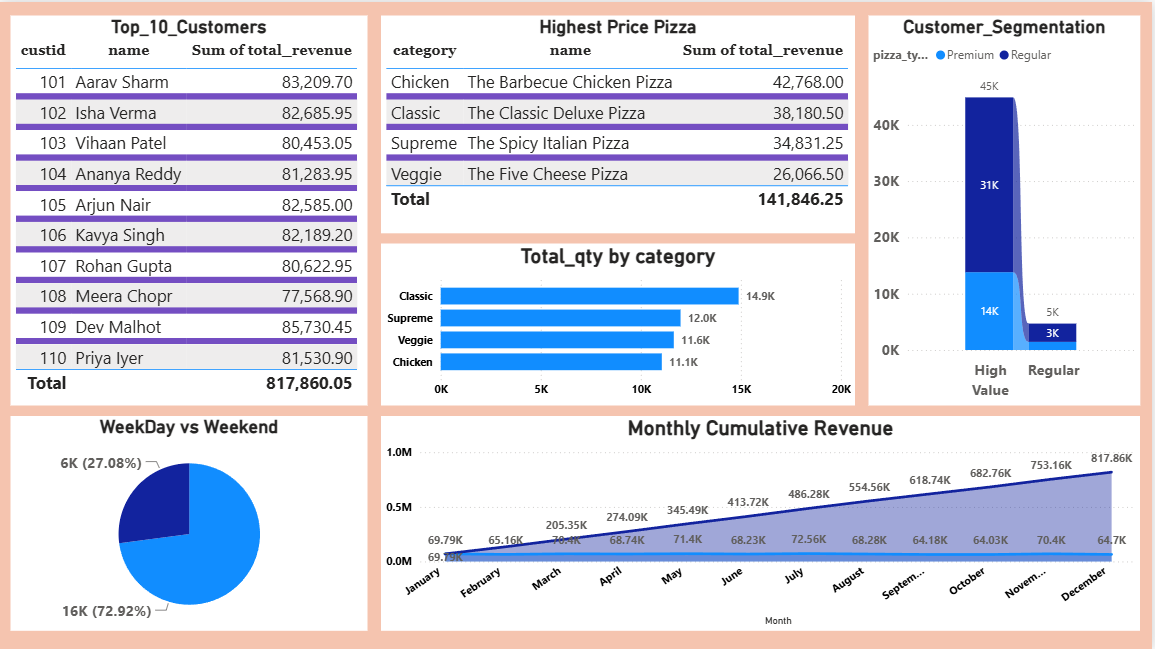

Layout of this report page (visuals, bound fields, positions):
{"tool":"powerbi","page":{"name":"Page 1","canvas":[1280,720],"ordinal":0},"visuals":[{"type":"tableEx","title":"Top_10_Customers","fields":{"Values":["Top_10_Customer.custid","Top_10_Customer.name","Sum(Top_10_Customer.total_revenue)"]},"box":[11.7,15,396.7,433.3],"z":0},{"type":"columnChart","title":"Customer_Segmentation","fields":{"Category":["Customer_Segment.customer_segment"],"Series":["Customer_Segment.pizza_type"],"Y":["Sum(Customer_Segment.total_pizzas)"]},"box":[965,15,301.7,433.3],"z":1000},{"type":"pieChart","title":"WeekDay vs Weekend","fields":{"Y":["Sum(Weekday VS Weekend.total_orders)"],"Category":["Weekday VS Weekend.day_type"]},"box":[11.7,460,396.7,238.3],"z":1001},{"type":"tableEx","title":"Highest Price Pizza","fields":{"Values":["Top_Pizza_by_Category.category","Top_Pizza_by_Category.name","Sum(Top_Pizza_by_Category.total_revenue)"]},"box":[423.3,15,526.7,241.7],"z":1003},{"type":"barChart","title":"Total_qty by category","fields":{"Category":["public vw_category_sales.category"],"Y":["Sum(public vw_category_sales.total_qty)"]},"box":[423.3,268.3,526.7,180],"z":1004},{"type":"areaChart","title":"Monthly Cumulative Revenue","fields":{"Category":["Cumulative_Revenue_trend.month.Variation.Date Hierarchy.Month"],"Y":["Sum(Cumulative_Revenue_trend.monthly_revenue)","Sum(Cumulative_Revenue_trend.cumulative_revenue)"]},"box":[423.3,460,843.3,238.3],"z":1005}]}

Visuals, with their boxes in screenshot pixels (x1, y1, x2, y2), scaled from the page's 1280x720 canvas onto the 1155x649 screenshot:
"Top_10_Customers" tableEx: <bbox>11, 14, 369, 404</bbox>
"Customer_Segmentation" columnChart: <bbox>871, 14, 1143, 404</bbox>
"WeekDay vs Weekend" pieChart: <bbox>11, 415, 369, 629</bbox>
"Highest Price Pizza" tableEx: <bbox>382, 14, 857, 231</bbox>
"Total_qty by category" barChart: <bbox>382, 242, 857, 404</bbox>
"Monthly Cumulative Revenue" areaChart: <bbox>382, 415, 1143, 629</bbox>
